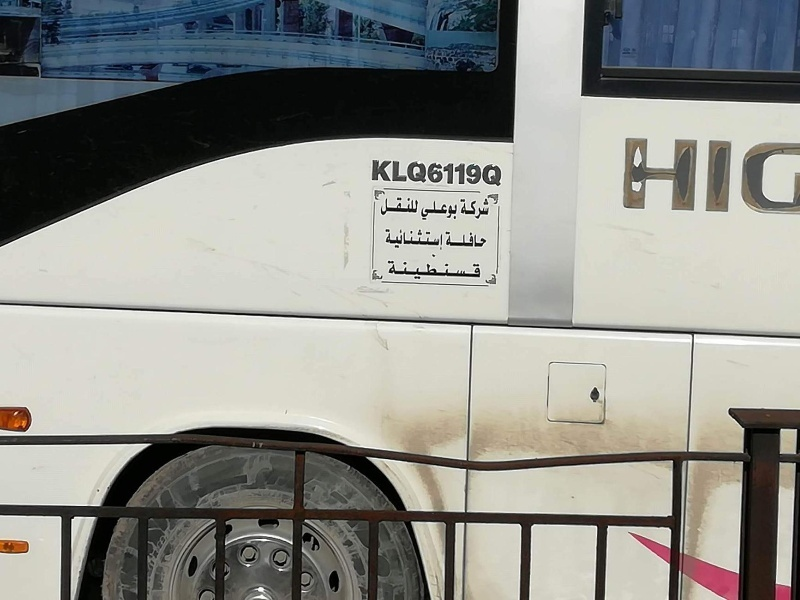text: (625, 136, 640, 219), (641, 136, 656, 219), (657, 136, 672, 219), (673, 136, 688, 219), (689, 136, 704, 219), (705, 136, 720, 219), (721, 136, 736, 219), (737, 136, 752, 219), (753, 136, 768, 219), (769, 136, 784, 219), (785, 136, 800, 219), (385, 159, 400, 188), (401, 159, 416, 188), (417, 159, 432, 188), (433, 159, 448, 188), (449, 159, 464, 188), (465, 159, 480, 188), (481, 159, 496, 188), (465, 259, 481, 282), (372, 159, 384, 188), (385, 229, 400, 252), (401, 229, 416, 252), (417, 229, 432, 252), (401, 259, 416, 282), (417, 259, 432, 282), (433, 259, 448, 282), (449, 259, 464, 282), (465, 198, 480, 220), (433, 199, 448, 221), (385, 197, 400, 217), (401, 197, 416, 217), (433, 229, 445, 252), (388, 259, 400, 282), (449, 230, 464, 248), (465, 230, 480, 248), (481, 198, 490, 220), (449, 199, 458, 221), (424, 199, 432, 221), (497, 159, 502, 188), (481, 230, 488, 248), (460, 198, 464, 220), (623, 136, 624, 219), (380, 197, 384, 217), (417, 197, 420, 217), (446, 230, 448, 248)
